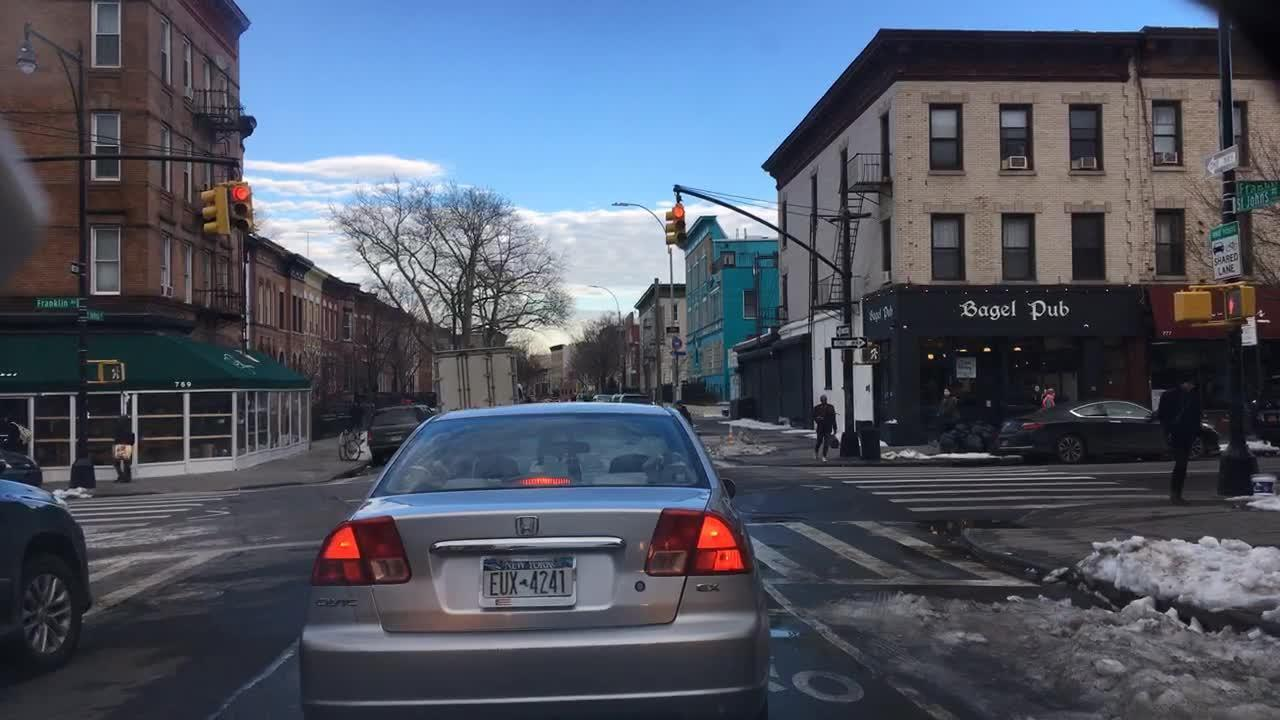Honda: (499, 504, 565, 558)
